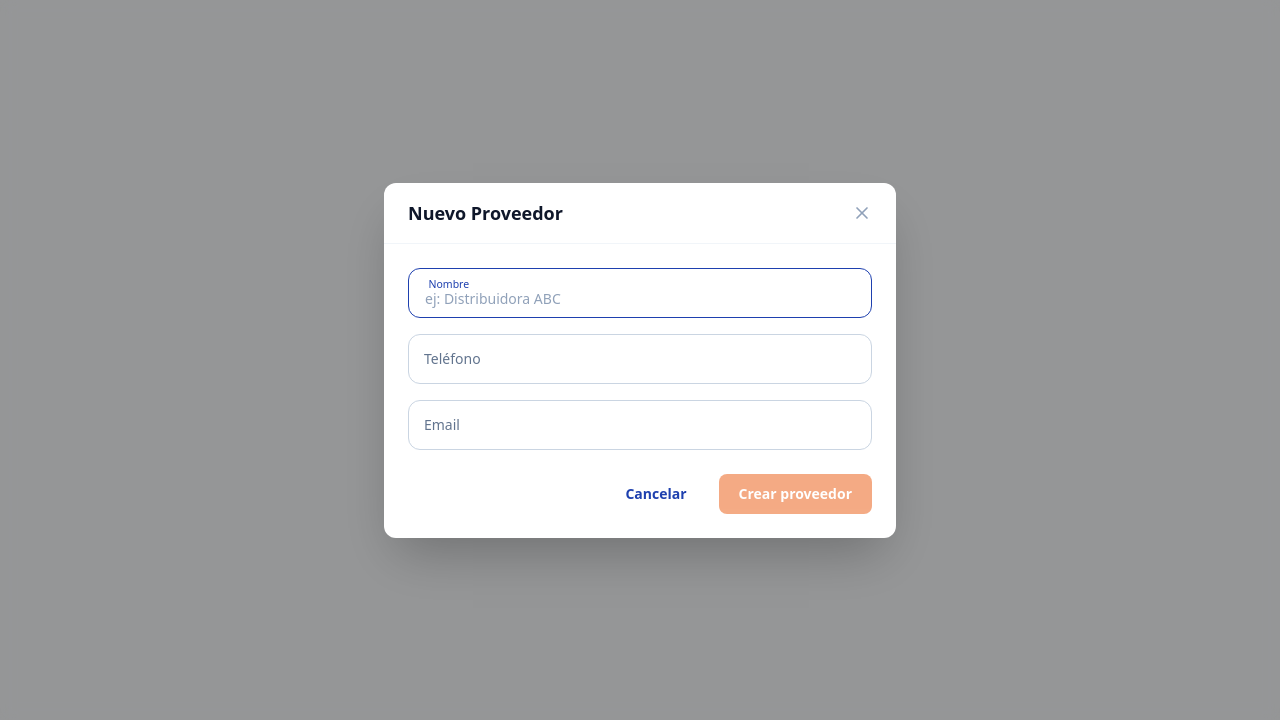
Test case: CreateSupplierModal › shows error on failure
The image size is (1280, 720).
Type "Test" into the field with placeholder "ej: Distribuidora ABC" at (640, 292), box [408, 268, 872, 318]
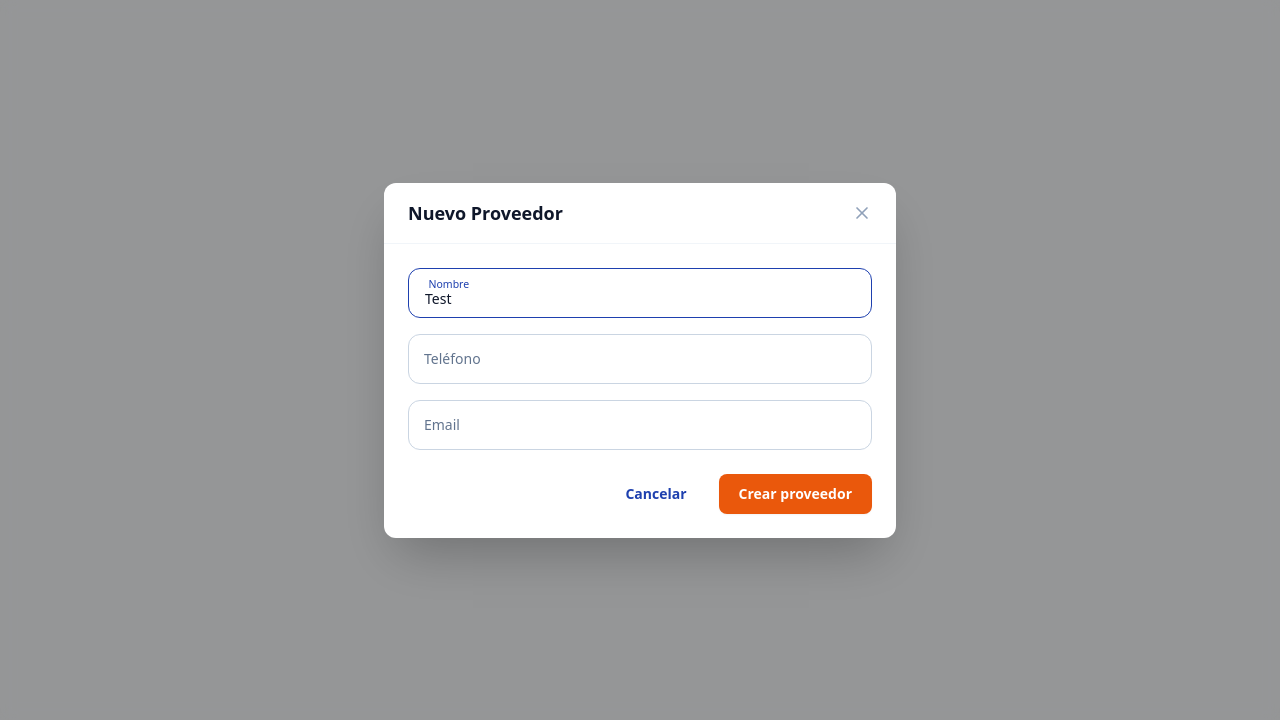
Click the button "Crear proveedor" at (795, 494), box [718, 474, 872, 514]
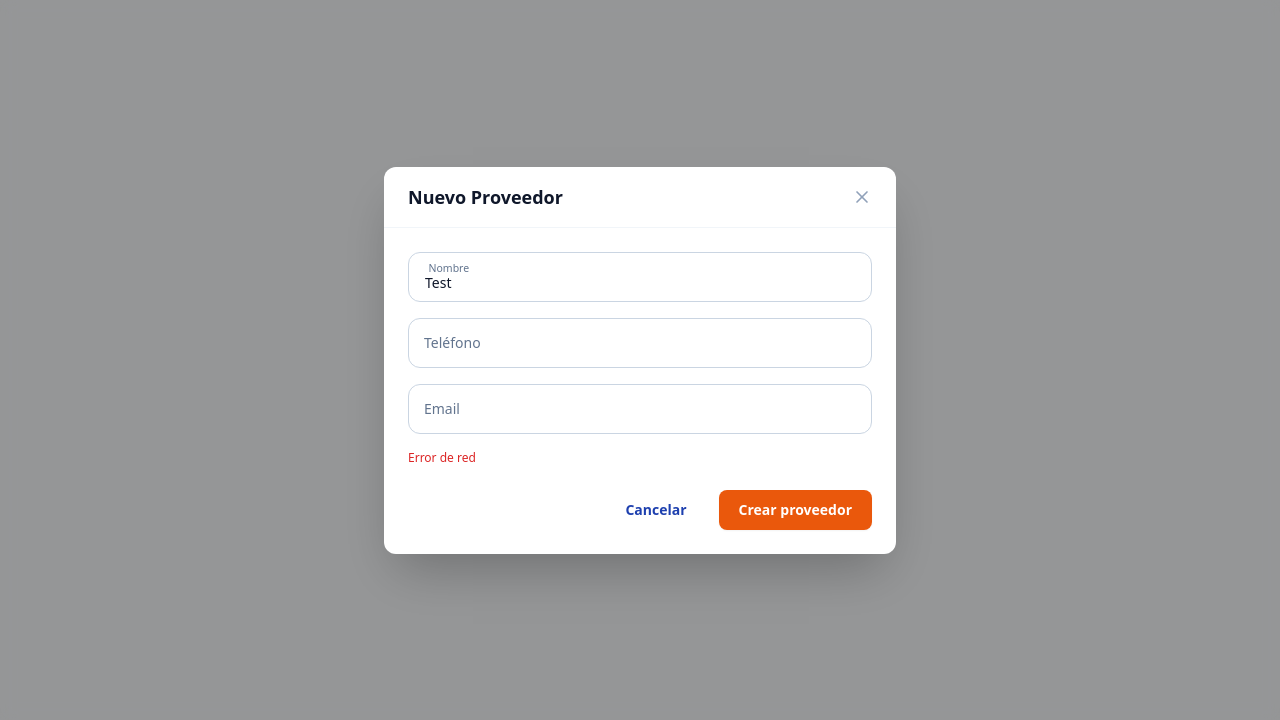
Expected: the text "Error de red" is shown, [408, 448, 476, 466]
